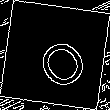O_NW: (23, 22, 87, 88)
